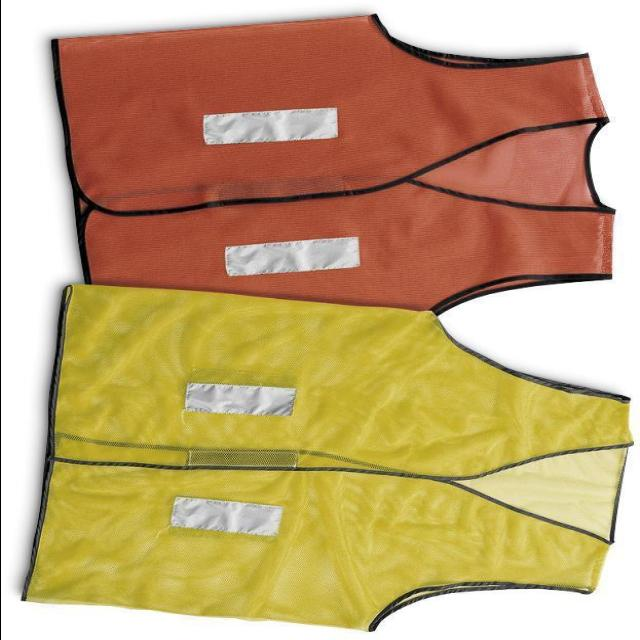helmet: (43, 282, 627, 638)
